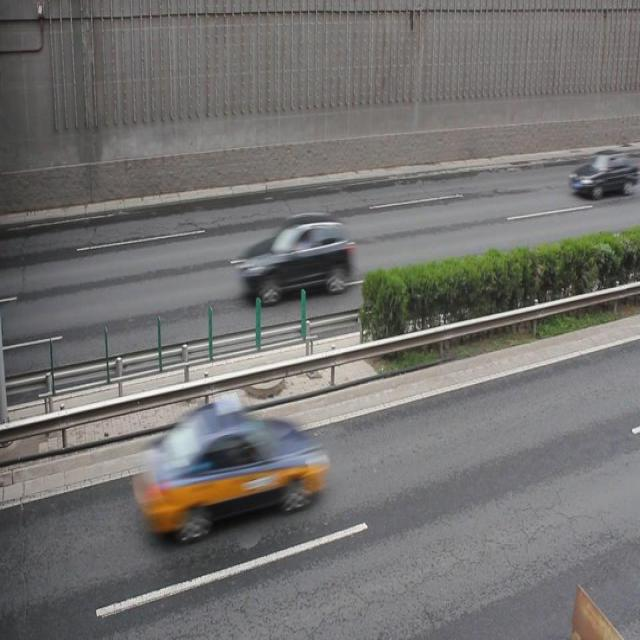car: (137, 395, 324, 533), (236, 218, 352, 300), (570, 150, 632, 194)
